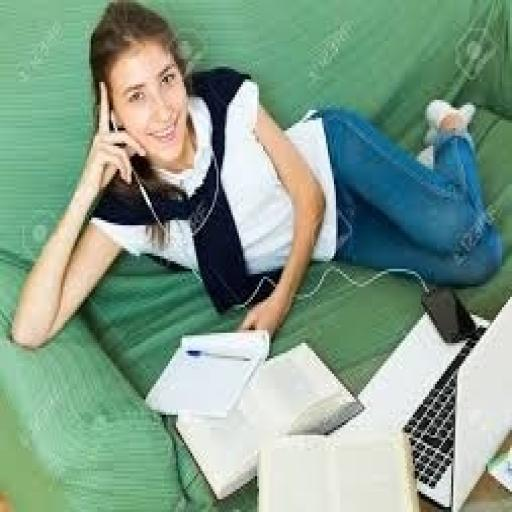using_laptop: (399, 279, 510, 509)
